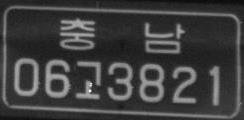0: (13, 56, 38, 96)
1: (204, 64, 227, 106)
2: (171, 64, 197, 104)
3: (107, 61, 133, 102)
6: (44, 58, 70, 98)
8: (138, 62, 165, 103)
고: (74, 59, 100, 99)
충남_D: (59, 16, 185, 52)
